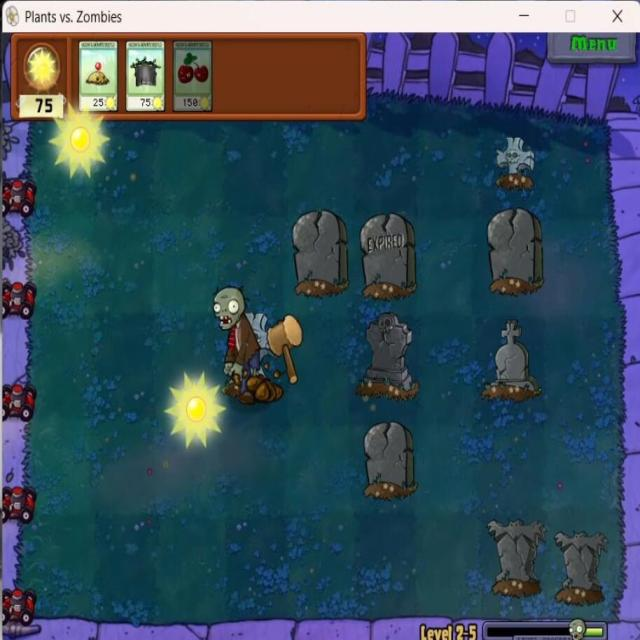sunshine: (159, 372, 231, 447), (50, 107, 110, 180)
zombies: (212, 285, 262, 389)
